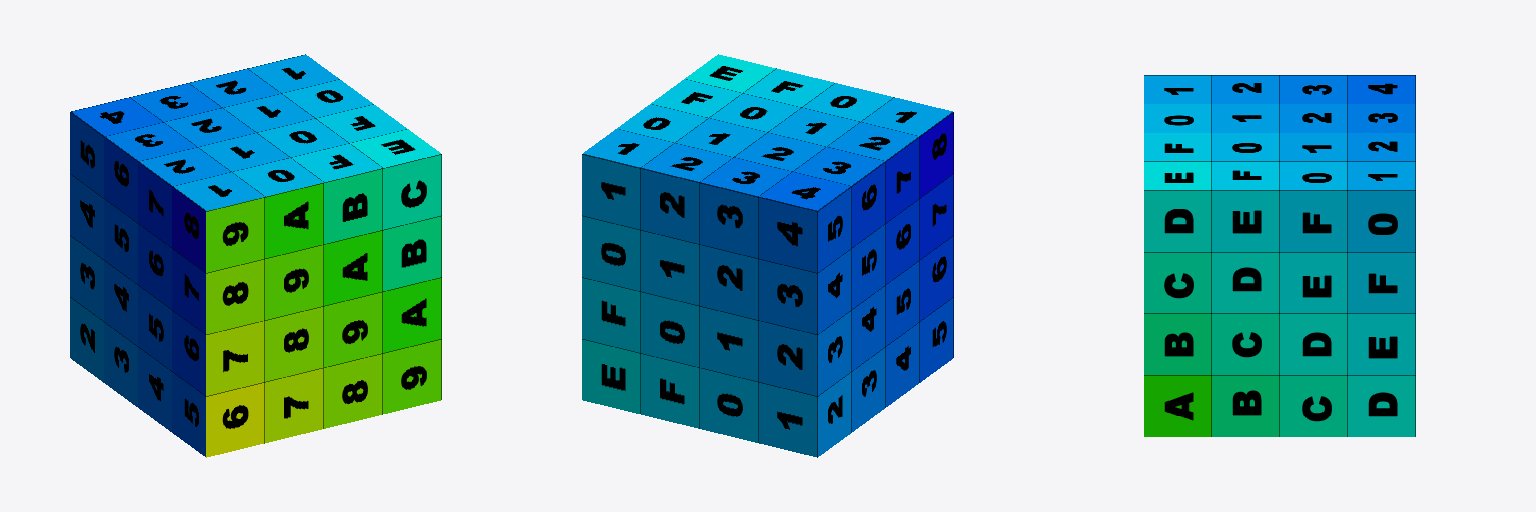
3 views of the same model, side by side, from view 1: azimuth 30°, elevation 25°; view 2: azimuth 150°, elevation 25°; view 3: azimuth 270°, elevation 25° (orthographic).
Parts seen in each view (by area): view 1: Cube; view 2: Cube; view 3: Cube.
Part boxes in pixels (x1,y1,x2,y2): Cube: (70, 54, 441, 457); Cube: (582, 54, 953, 457); Cube: (1144, 75, 1415, 436).
Size of the model in its own units: 2 by 2 by 2.
Materials: 1 (1 with a texture image).